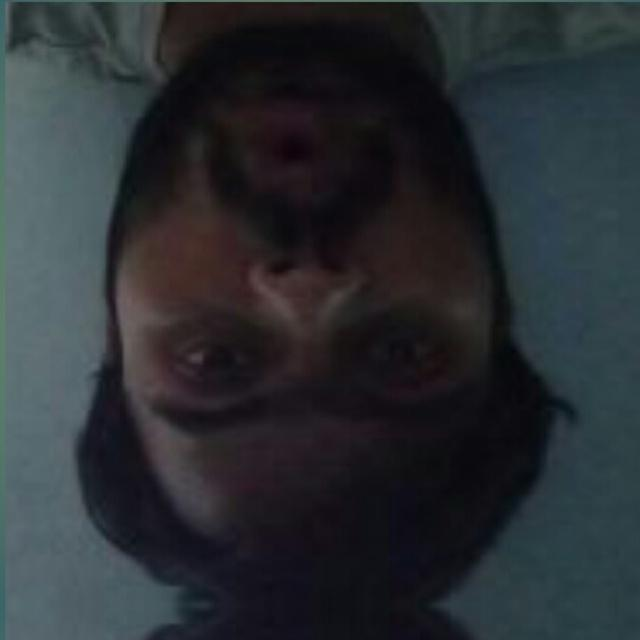surprised: (96, 43, 498, 551)
